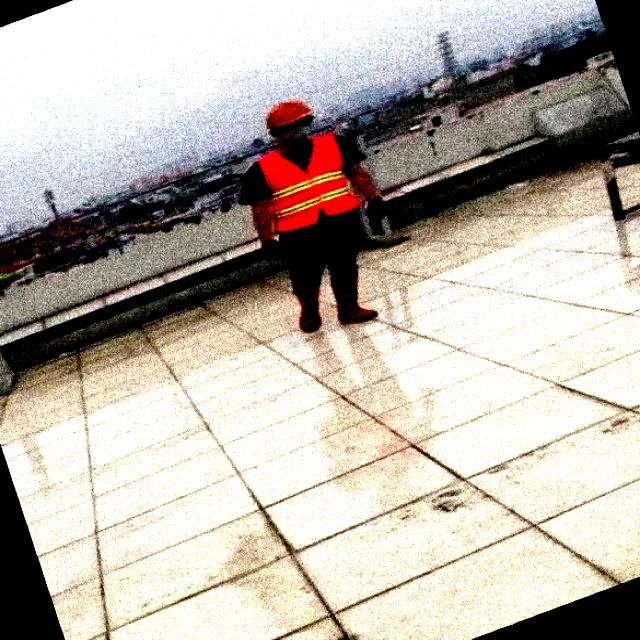Capacete: (265, 99, 313, 129)
Colete: (258, 134, 361, 232)
